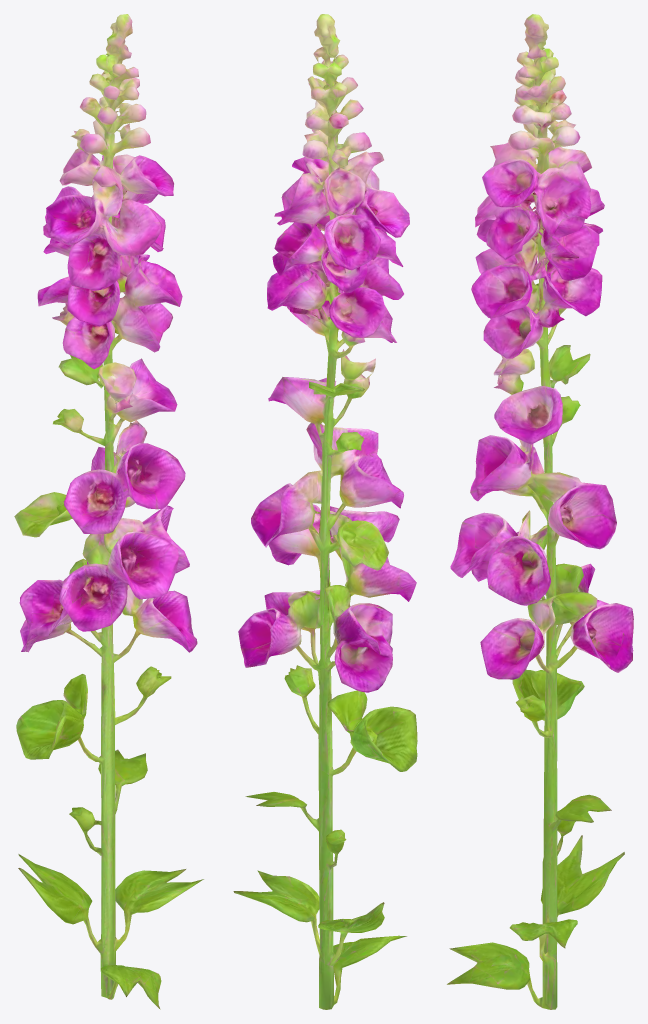
The model's file is prop-foxglove.glb.
3 views of the same model, side by side, from view 1: azimuth 30°, elevation 25°; view 2: azimuth 150°, elevation 25°; view 3: azimuth 270°, elevation 25° (orthographic).
Size of the model in its own units: 0.3434 by 1.91 by 0.3259.
1 material, 1 textured.
